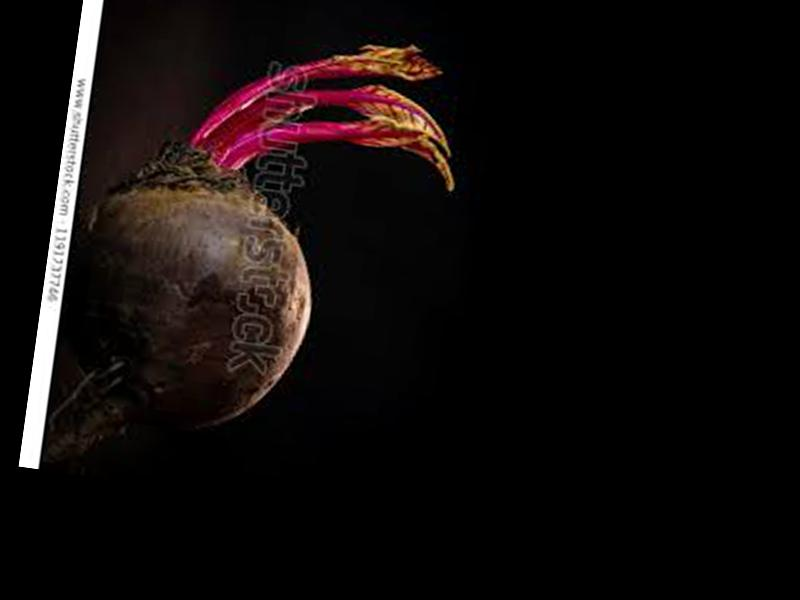Beet: (40, 4, 472, 520)
